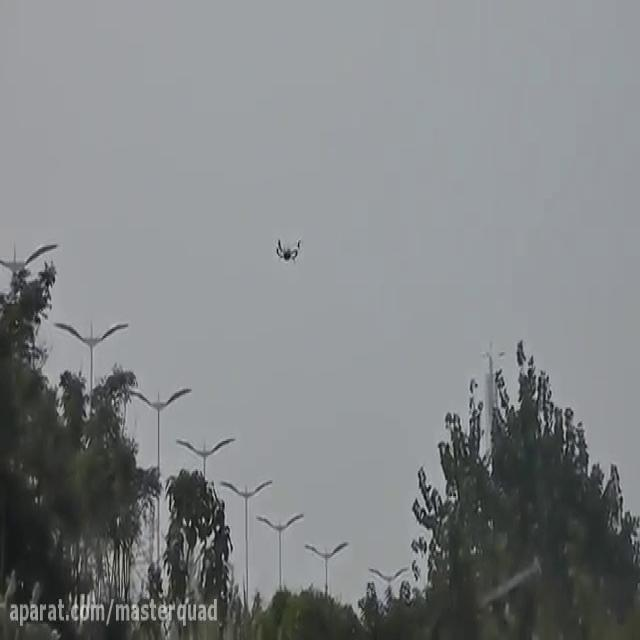drones: (270, 226, 306, 274)
